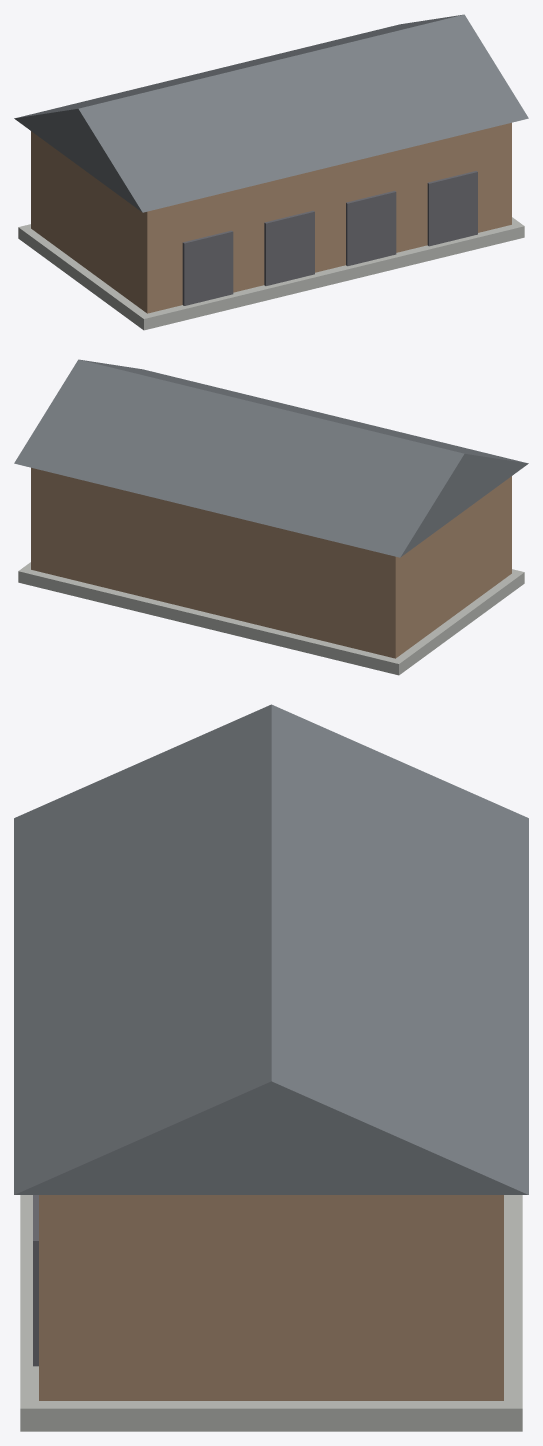
File: stable_paddock.glb
3 views of the same model, one above another, from view 1: azimuth 30°, elevation 25°; view 2: azimuth 150°, elevation 25°; view 3: azimuth 270°, elevation 25° (orthographic). The views are drawn at different scales.
Parts seen in each view (by area): view 1: stable_paddock; view 2: stable_paddock; view 3: stable_paddock.
Boxes of the visible parts, left/top/right/bottom form: stable_paddock: left=14, top=14, right=528, bottom=330; stable_paddock: left=14, top=359, right=528, bottom=675; stable_paddock: left=14, top=704, right=528, bottom=1431.
Bounding box in the file's own units: 14.2 × 6.2 × 8.2.
